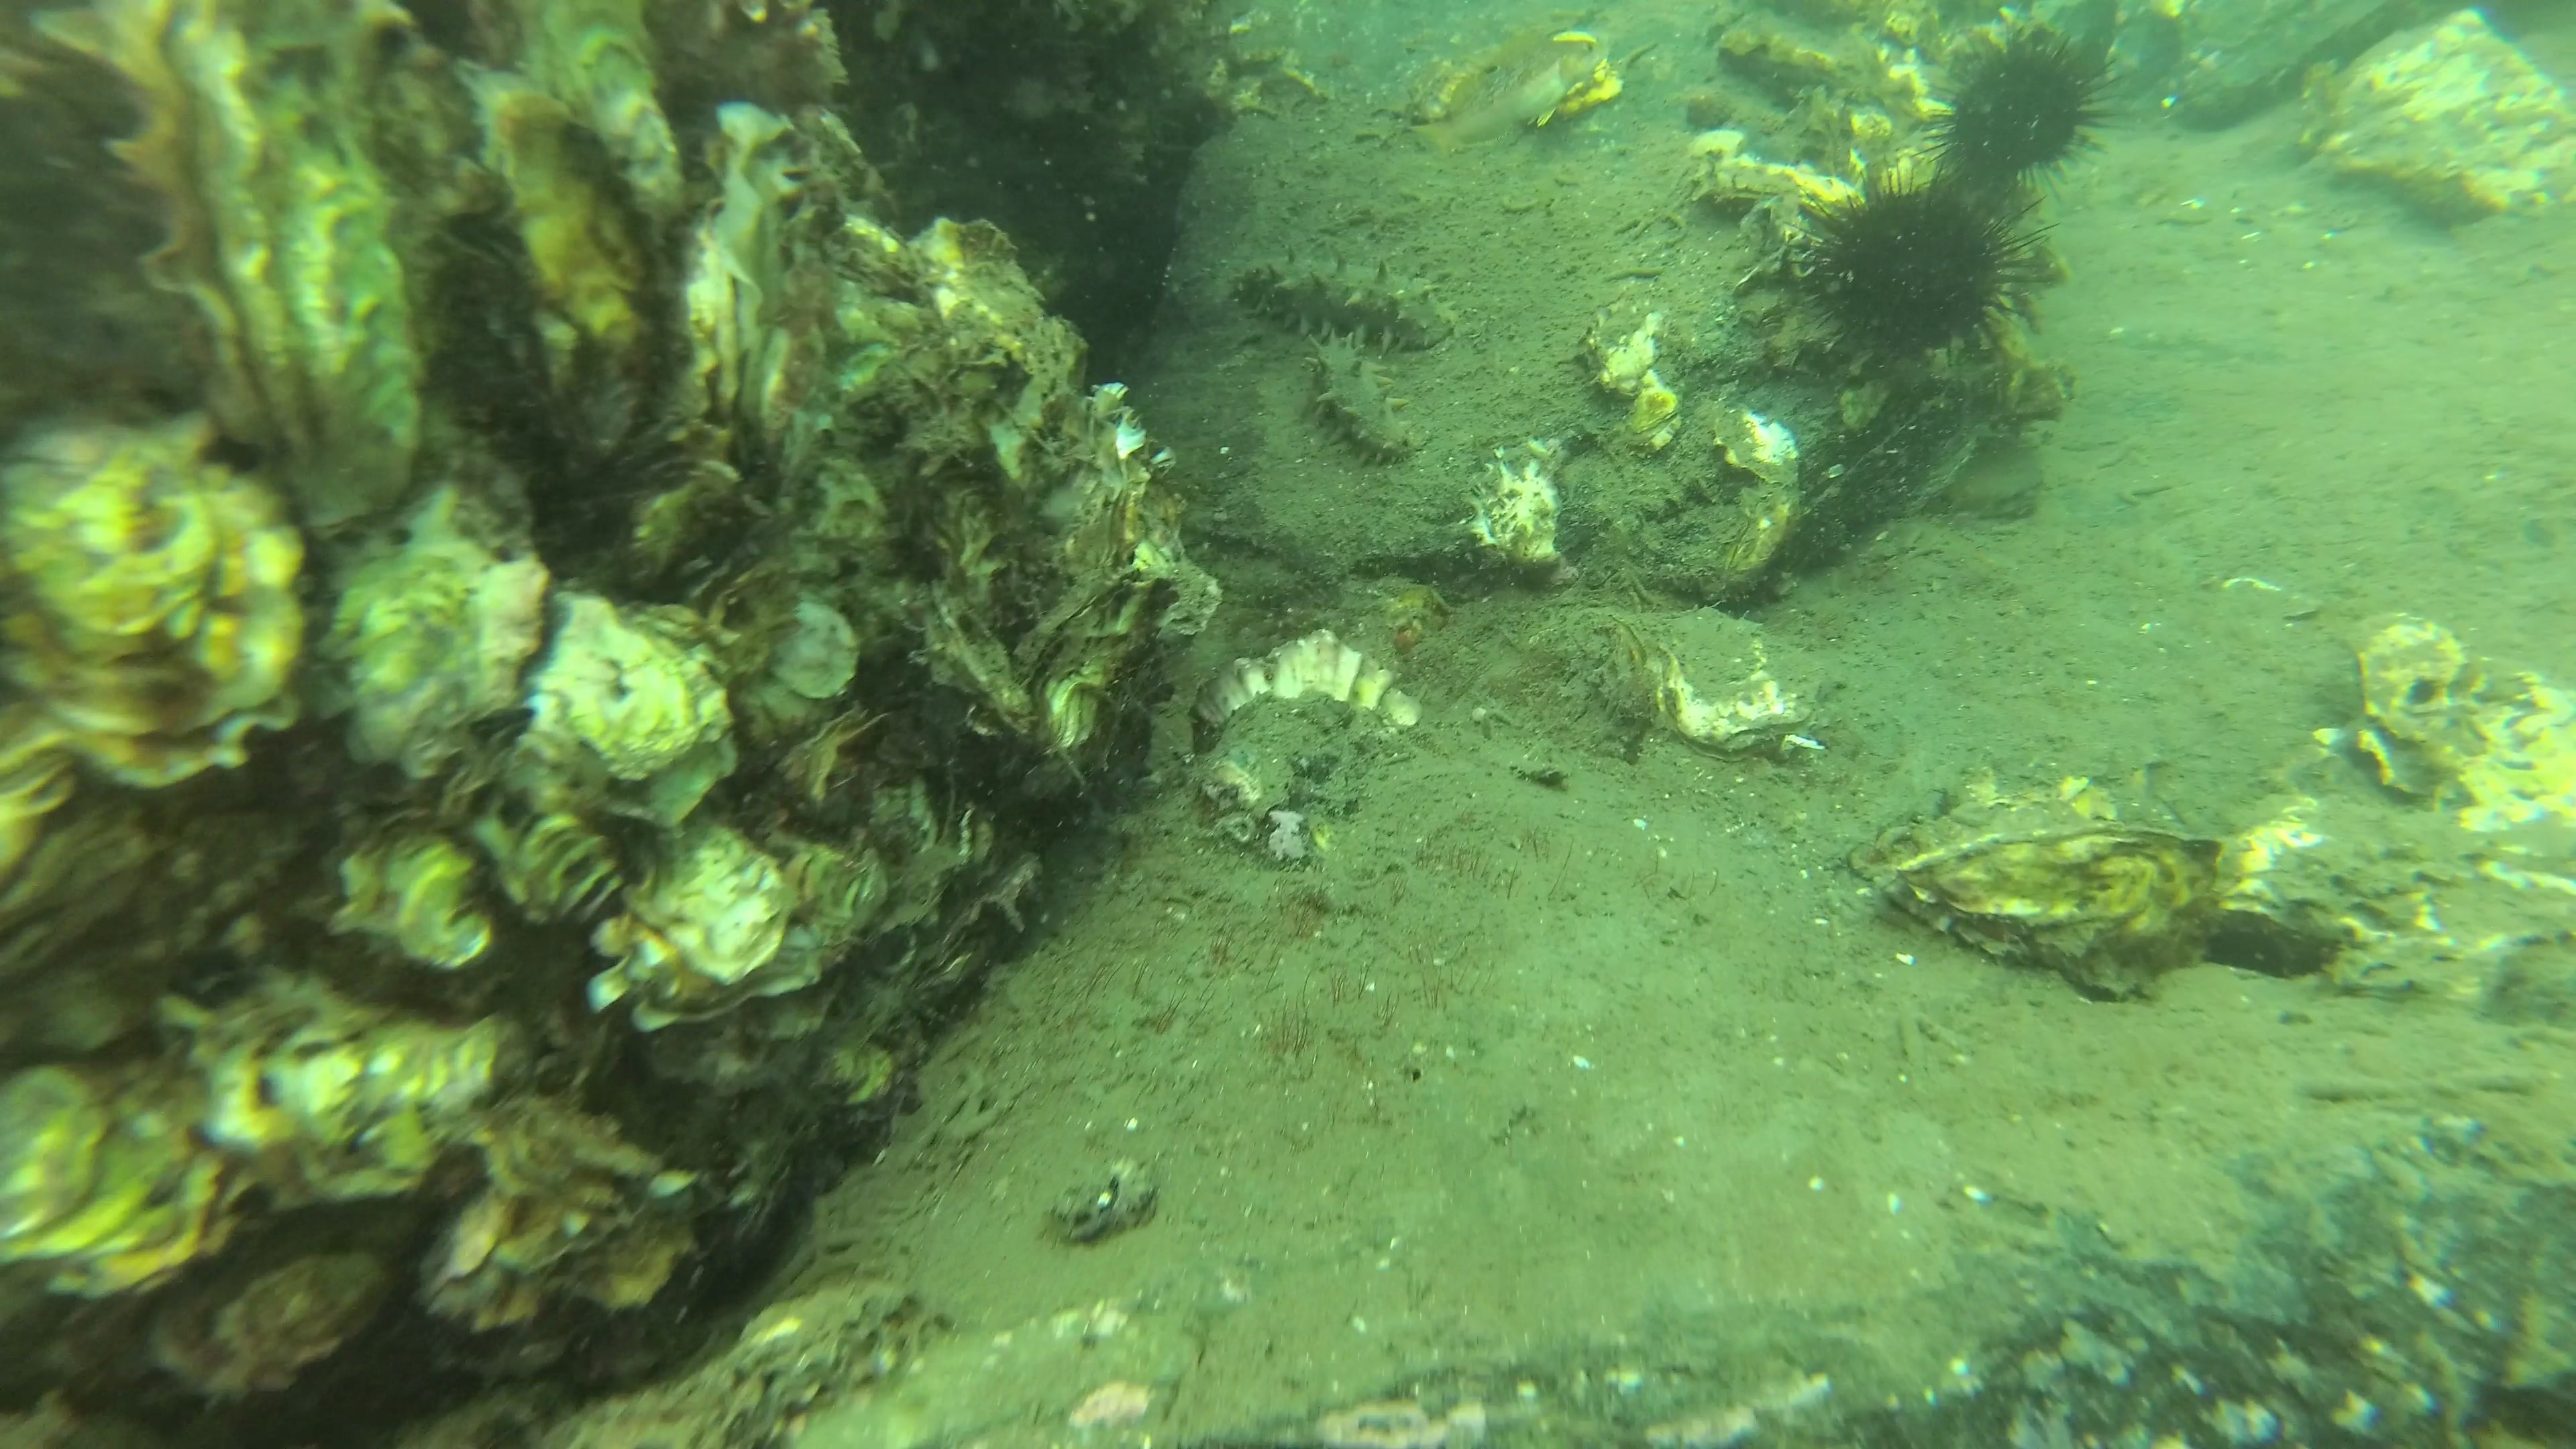echinus: (1792, 173, 2051, 372), (1928, 28, 2107, 200)
holothurian: (1223, 242, 1449, 356), (1311, 336, 1428, 467)
